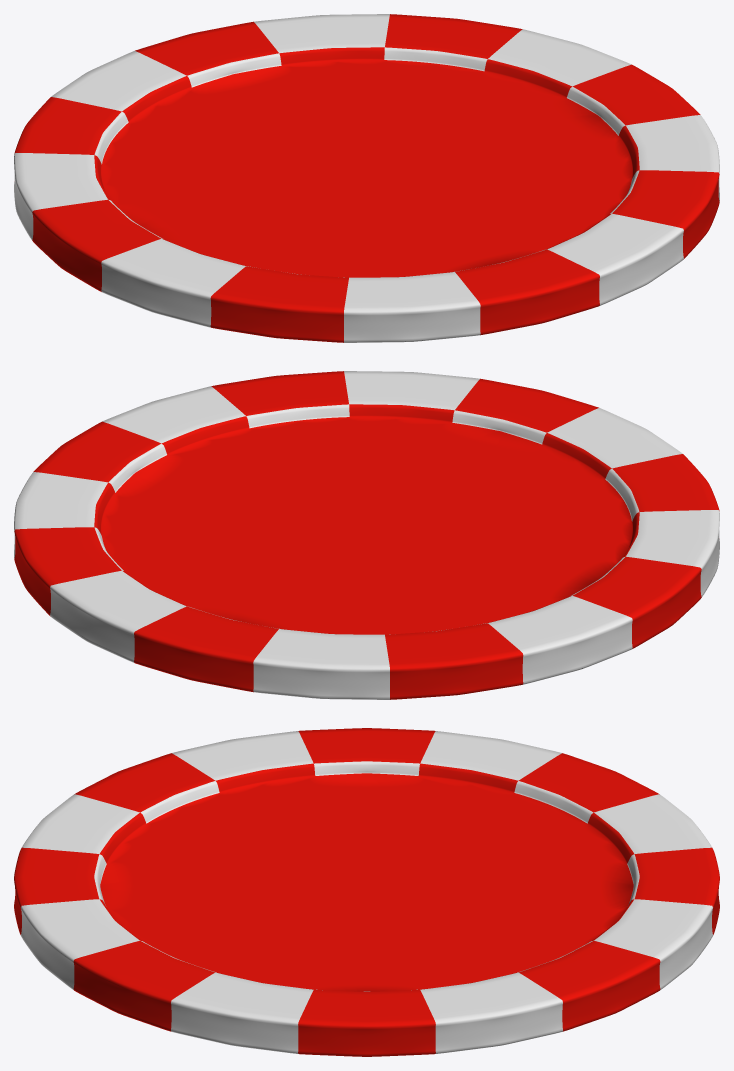
The model's file is Chip_Red.fbx.
3 renders of one model, top to bottom at view 1: azimuth 30°, elevation 25°; view 2: azimuth 150°, elevation 25°; view 3: azimuth 270°, elevation 25°, orthographic.
Visible parts, largest first — view 1: Chip_Red; view 2: Chip_Red; view 3: Chip_Red.
Part boxes in pixels (left/top/right/bottom): Chip_Red: left=14, top=14, right=719, bottom=342; Chip_Red: left=14, top=371, right=719, bottom=699; Chip_Red: left=14, top=728, right=719, bottom=1056.
Bounding box in the file's own units: 199 × 10.01 × 199.
